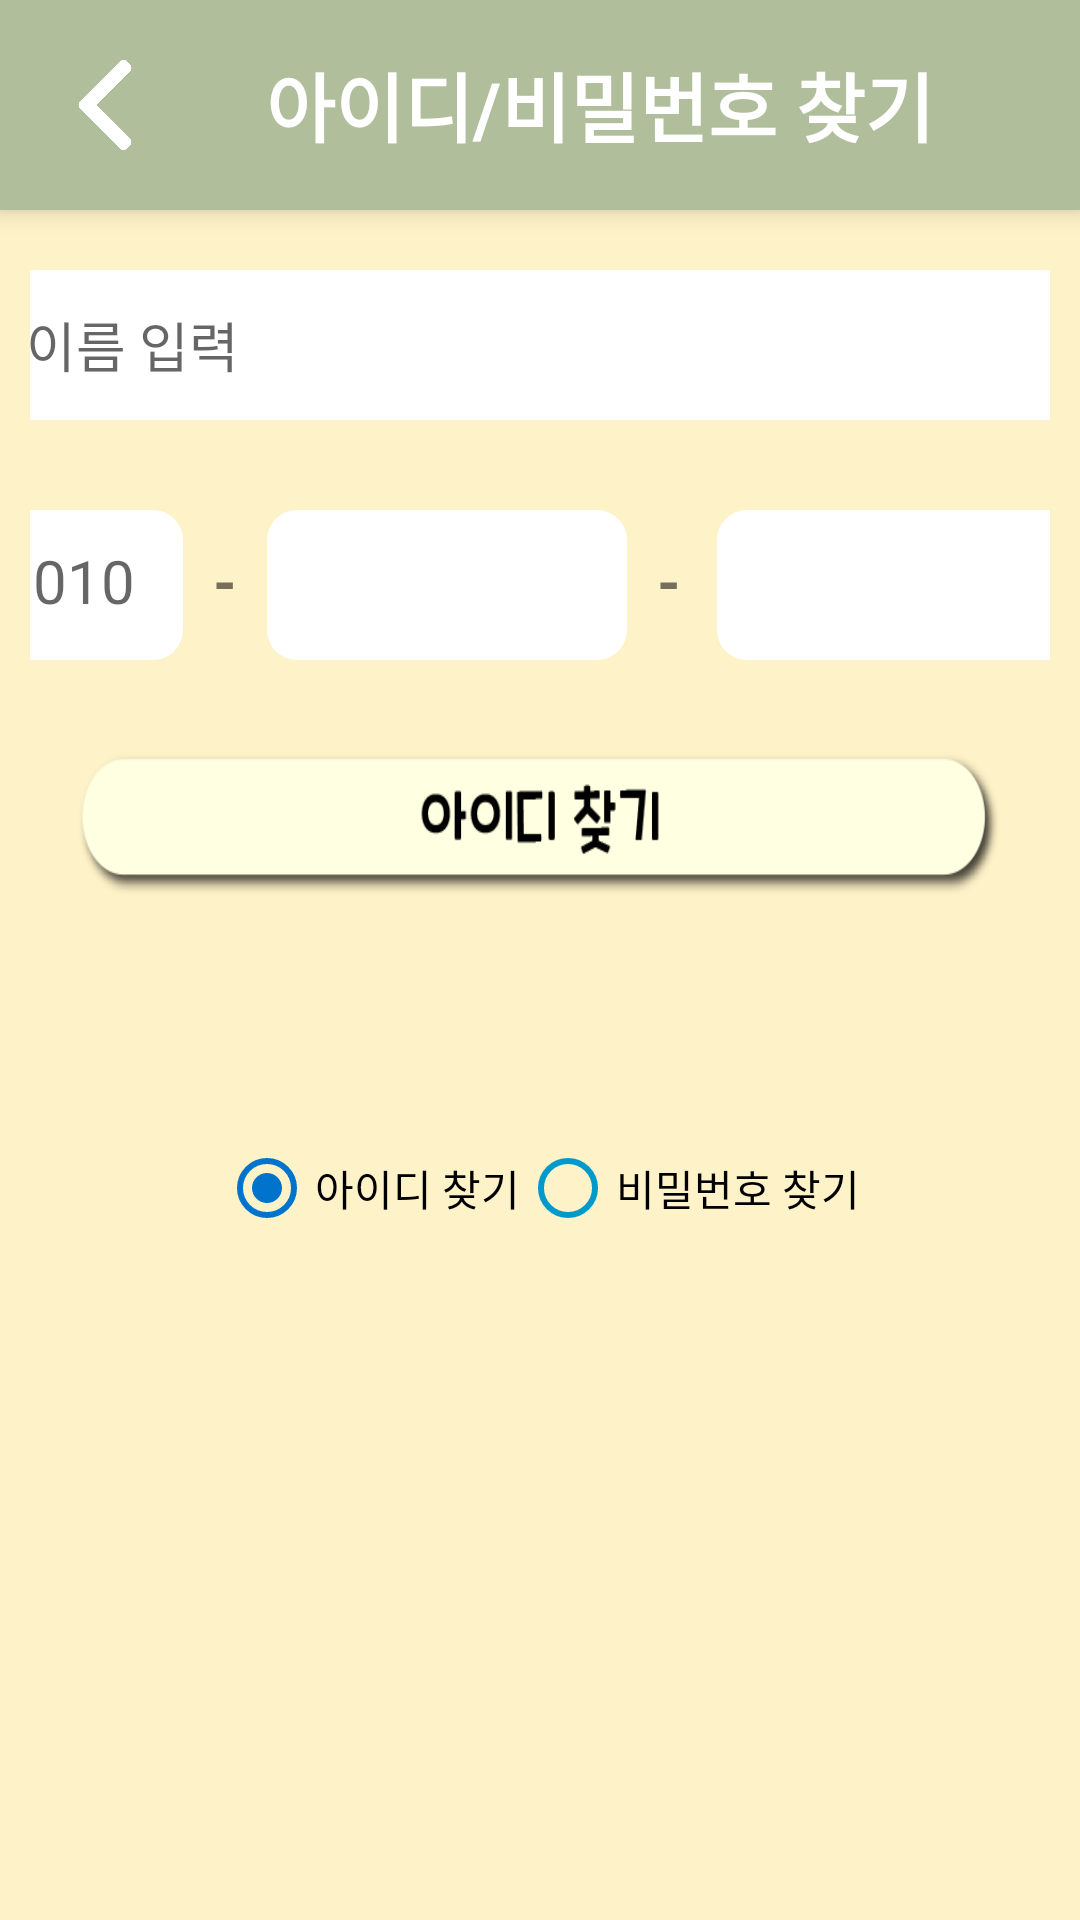

Locate icon controls on the screen. Image size 1080px×1920px, boxes as (x1, y1, x2, y2).
leftarrow: (79, 60, 131, 150)
